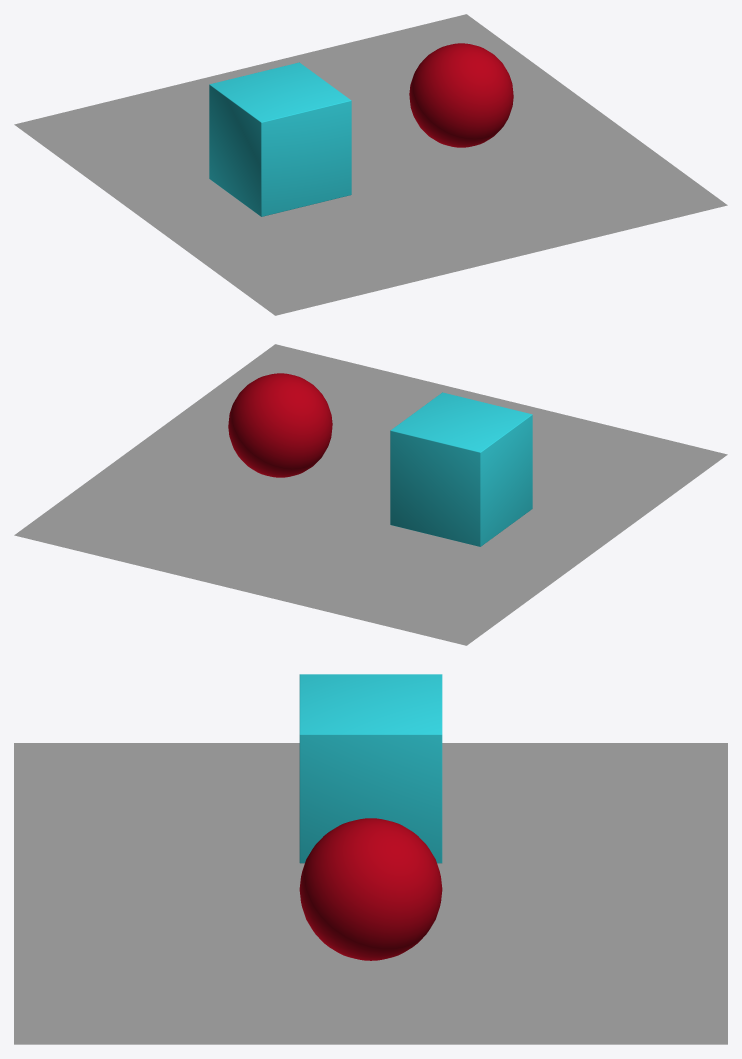
3 views of the same model, one above another, from view 1: azimuth 30°, elevation 25°; view 2: azimuth 150°, elevation 25°; view 3: azimuth 270°, elevation 25° (orthographic). The views are drawn at different scales.
Visible parts, largest first — view 1: Plane, Cube, Sphere; view 2: Plane, Cube, Sphere; view 3: Plane, Cube, Sphere.
Boxes of the visible parts, x1,y1,x2,y2 form: Plane: (14,14,727,315); Cube: (209,62,351,216); Sphere: (409,43,513,147); Plane: (14,344,727,645); Cube: (390,392,532,546); Sphere: (228,373,332,477); Plane: (14,743,727,1044); Cube: (299,674,442,863); Sphere: (299,818,442,960).
Size of the model in its own units: 5 by 1 by 5.
